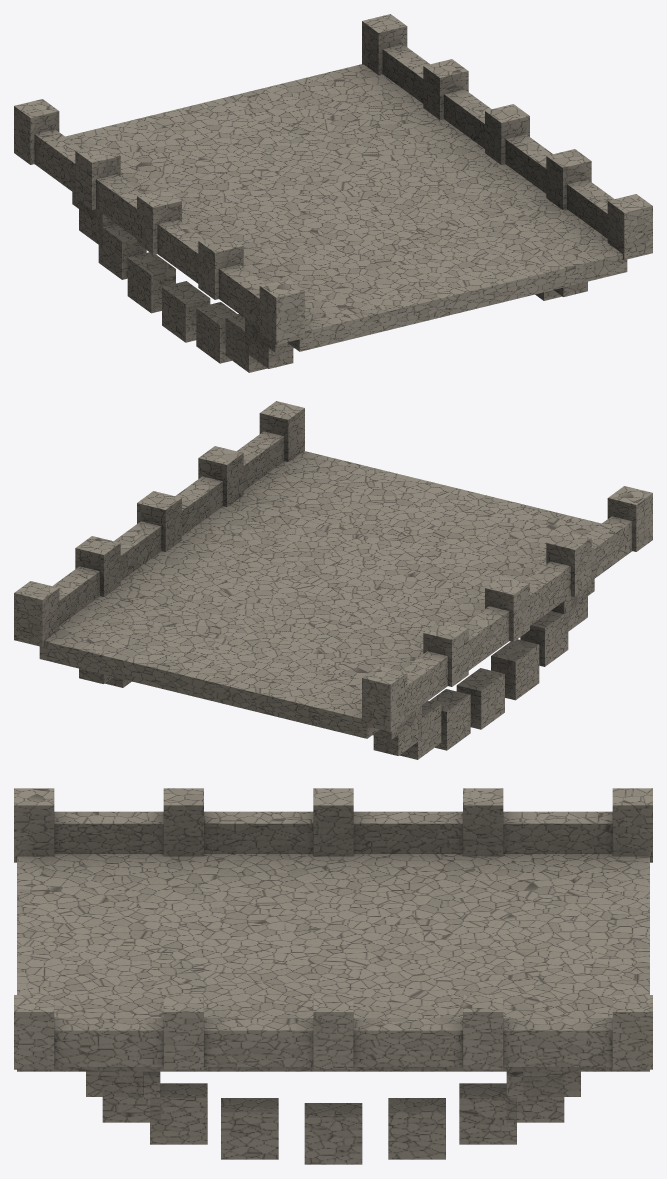
The model's file is Bridge.glb.
3 views of the same model, one above another, from view 1: azimuth 30°, elevation 25°; view 2: azimuth 150°, elevation 25°; view 3: azimuth 270°, elevation 25° (orthographic). The views are drawn at different scales.
Parts seen in each view (by area): view 1: Bridge; view 2: Bridge; view 3: Bridge.
Part boxes in pixels (x1,y1,x2,y2): Bridge: (14,14,652,372); Bridge: (14,401,652,759); Bridge: (14,788,652,1164).
Bounding box in the file's own units: 9.2 × 3.25 × 11.1.
1 material, 1 textured.
